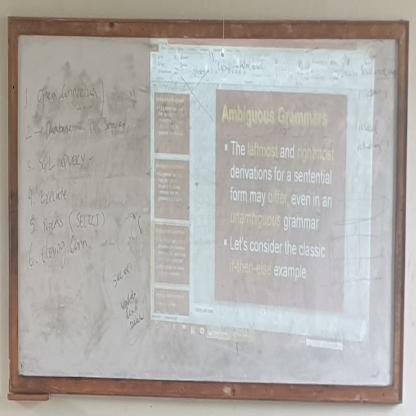Handwritten text: (99, 252, 152, 339), (35, 77, 99, 118), (36, 237, 93, 274), (37, 146, 86, 185), (43, 118, 84, 150), (39, 185, 71, 215), (75, 206, 101, 239), (41, 207, 63, 240)
Whiteboard: (10, 29, 401, 386)
